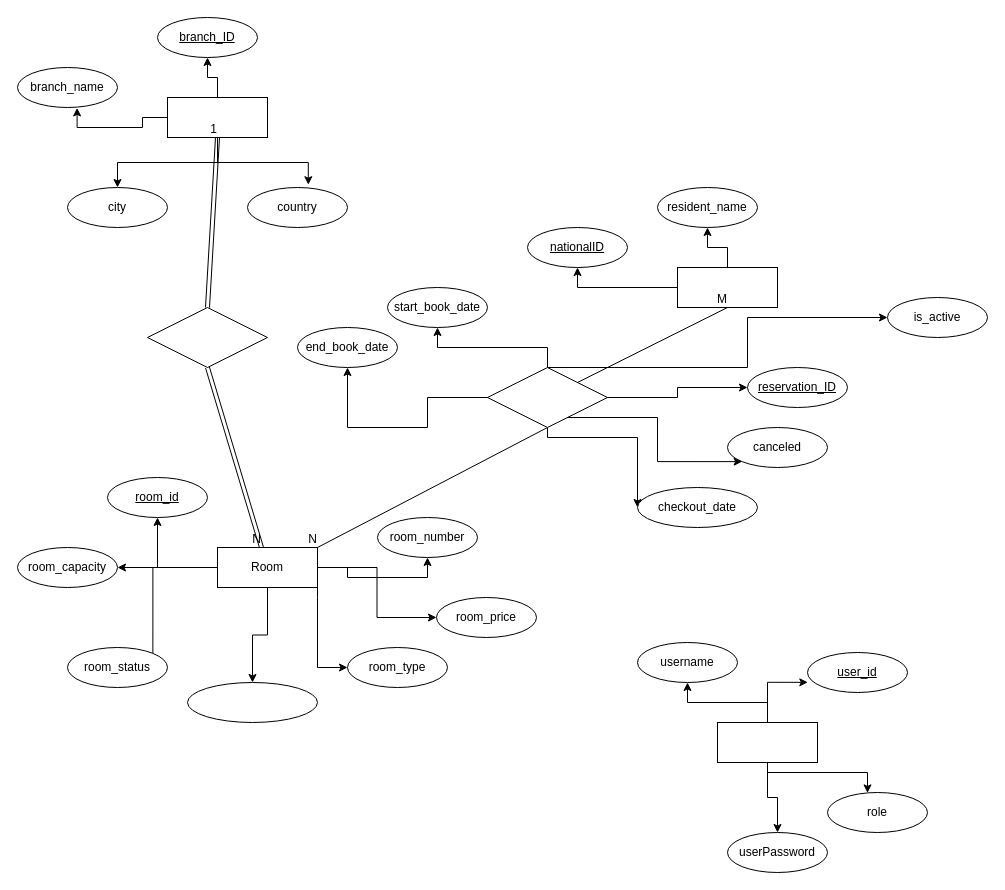
Image size: 1005x890. Some labels were removed from this diagram. The centre of each missing label's shape, as x and y in pixels:
book: the point at 547,397
Branch: the point at 217,117
contain: the point at 207,337
resident: the point at 727,287
room_resident_count: the point at 252,702
user: the point at 767,742
